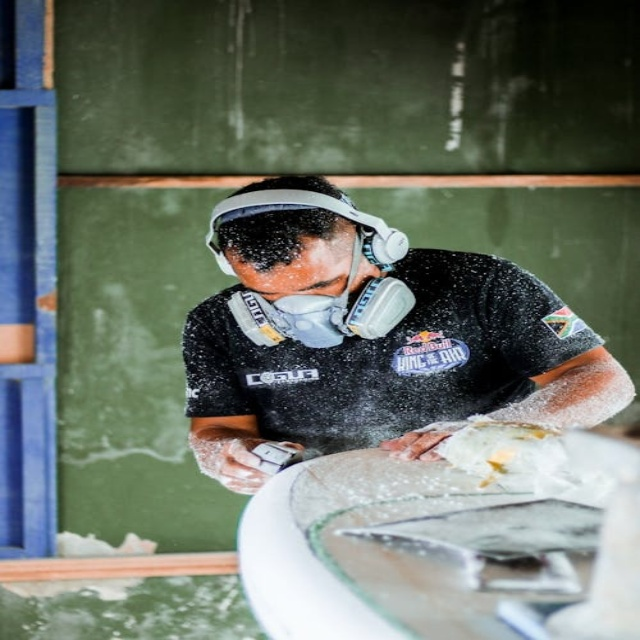Mascara: (268, 290, 354, 349)
Sin_gafas: (250, 259, 355, 300)
Sin_guantes: (192, 431, 300, 493), (376, 426, 460, 462)
